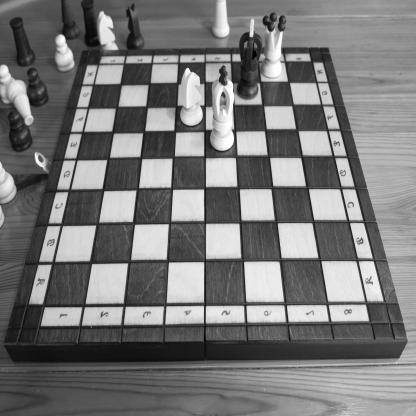black-bishop: (61, 0, 80, 40)
black-king: (236, 18, 262, 100)
black-knight: (126, 2, 145, 51)
black-pawn: (8, 110, 33, 152), (26, 67, 49, 107)
black-rook: (9, 16, 36, 67), (80, 0, 100, 48)
white-bishop: (6, 79, 34, 127)
white-king: (210, 65, 234, 151)
white-knight: (180, 67, 203, 127), (96, 10, 119, 51)
white-pawn: (0, 161, 18, 205), (55, 34, 75, 73), (1, 64, 16, 106)
white-queen: (260, 12, 287, 79)
white-rook: (211, 0, 230, 38)
